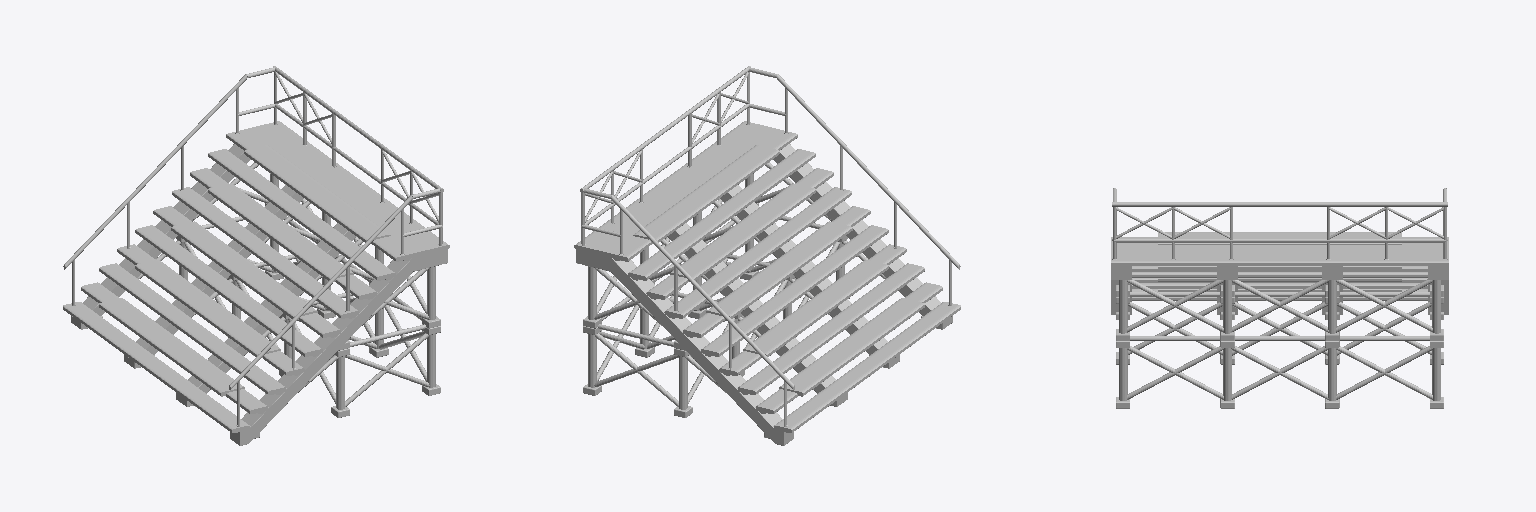
File: Bleachers.obj
3 views of the same model, side by side, from view 1: azimuth 30°, elevation 25°; view 2: azimuth 150°, elevation 25°; view 3: azimuth 270°, elevation 25° (orthographic).
Parts seen in each view (by area): view 1: bleachers; view 2: bleachers; view 3: bleachers.
Part boxes in pixels (bbox=[...]): bleachers: bbox=[63, 66, 449, 445]; bleachers: bbox=[574, 66, 960, 445]; bleachers: bbox=[1111, 188, 1448, 408].
Bounding box in the file's own units: 0.5179 × 0.4718 × 0.6975.